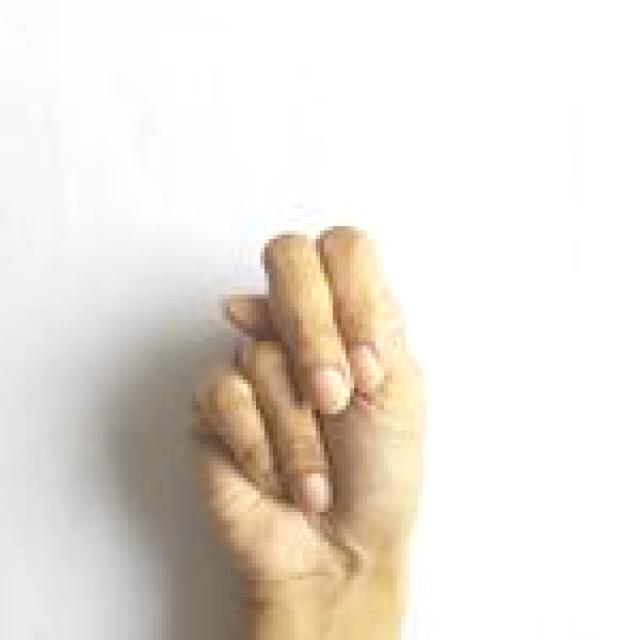N: (173, 212, 443, 640)
